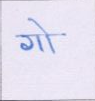e_matra: (28, 18, 51, 34)
